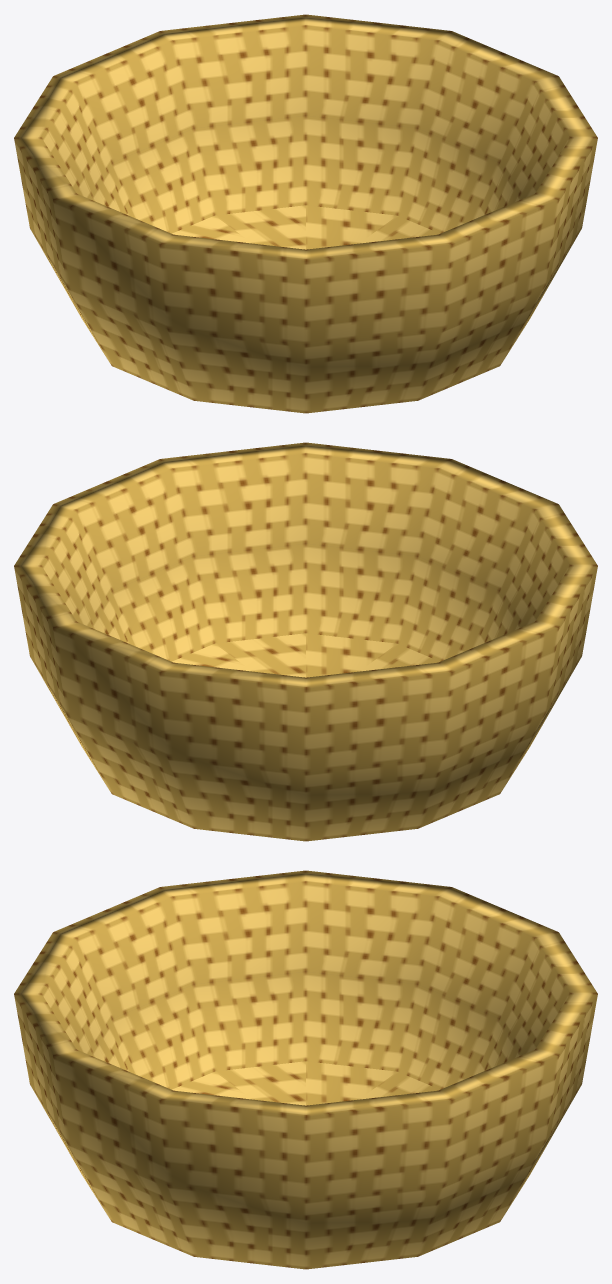
The model's file is fruit_basket.fbx.
3 renders of one model, top to bottom at view 1: azimuth 30°, elevation 25°; view 2: azimuth 150°, elevation 25°; view 3: azimuth 270°, elevation 25°, orthographic.
Visible parts, largest first — view 1: pCylinder13; view 2: pCylinder13; view 3: pCylinder13.
Boxes of the visible parts, x1,y1,x2,y2 form: pCylinder13: (14,14,597,413); pCylinder13: (14,442,597,841); pCylinder13: (14,870,597,1269).
Size of the model in its own units: 3.56 by 1.22 by 3.56.
